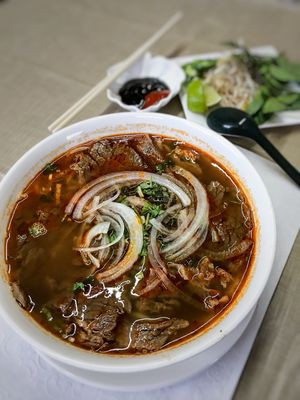salad: (47, 11, 184, 132), (206, 105, 300, 191)
sushi: (0, 123, 277, 390), (106, 51, 185, 114)
